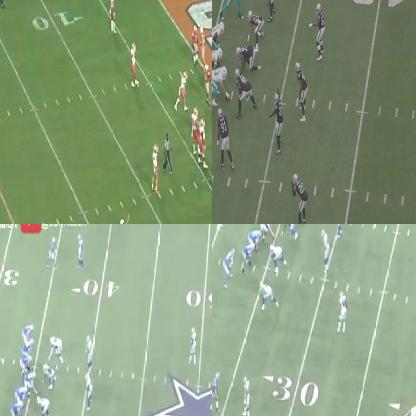CENTER: (213, 65, 230, 101), (25, 372, 38, 392), (260, 224, 274, 236)
DB: (290, 174, 307, 223), (274, 91, 282, 151), (242, 379, 252, 415), (76, 235, 86, 270), (340, 291, 348, 331), (190, 326, 197, 363), (192, 24, 198, 64), (200, 26, 206, 59)
LB: (313, 3, 326, 59), (295, 62, 307, 117), (320, 231, 329, 272), (83, 374, 93, 410), (86, 335, 94, 369), (264, 0, 277, 18), (206, 65, 210, 103), (333, 224, 345, 231)
QB: (150, 145, 160, 192), (218, 224, 226, 233)
SKILL: (212, 373, 222, 415), (224, 245, 233, 286), (129, 46, 139, 82), (180, 72, 188, 108), (229, 0, 242, 20), (108, 0, 116, 31), (48, 237, 56, 268), (21, 321, 34, 339)
